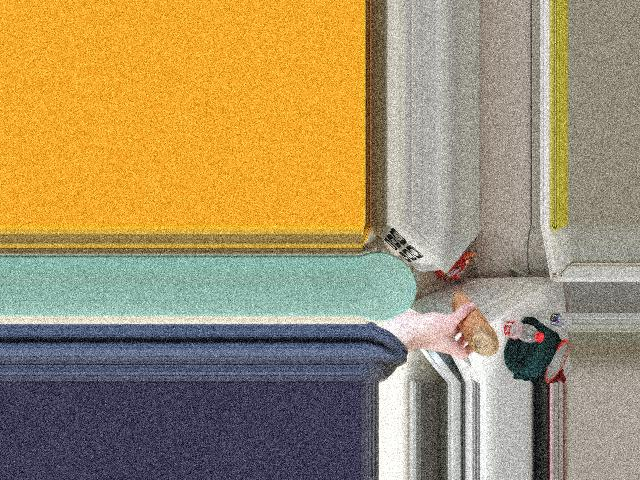sweet_potato: (454, 290, 499, 355)
